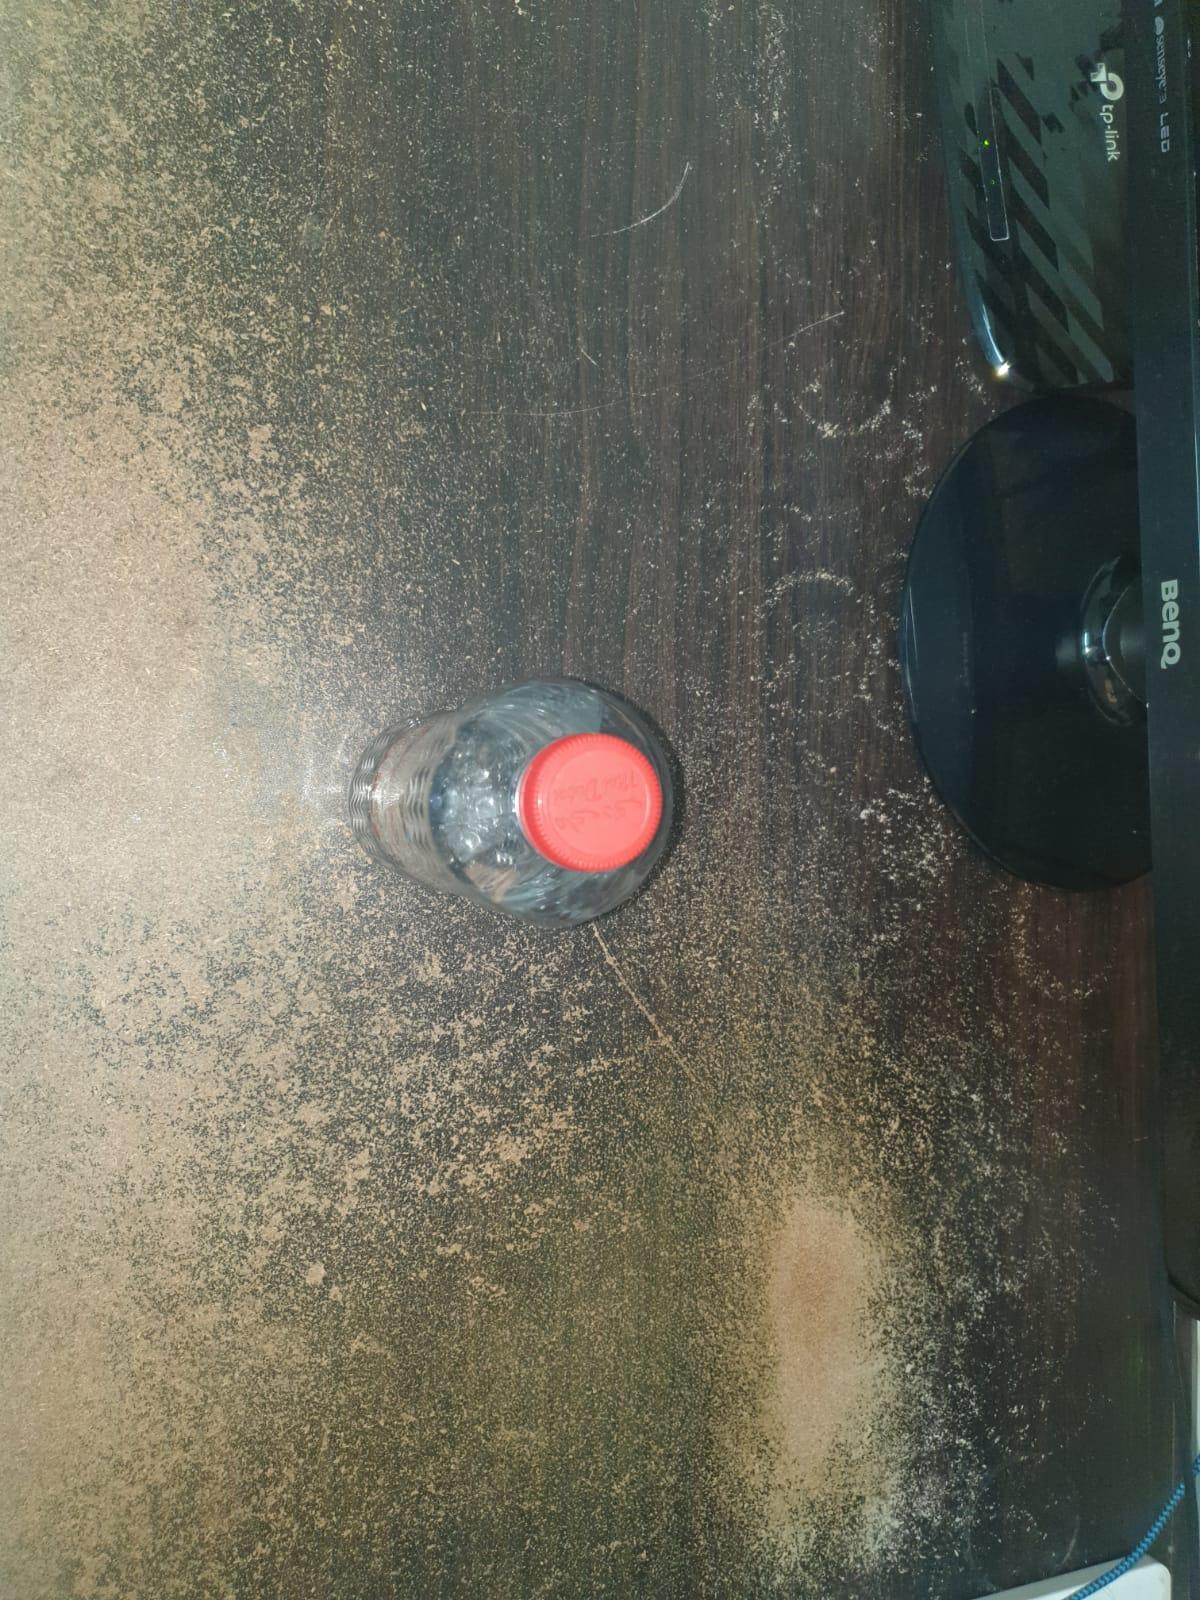bottle: (340, 656, 741, 990)
